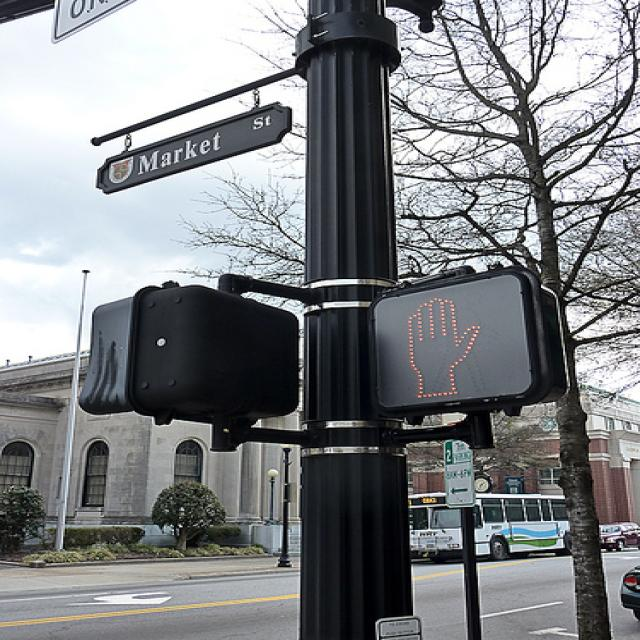Vehicle: (409, 493, 573, 564), (599, 522, 640, 553), (620, 565, 640, 621)
